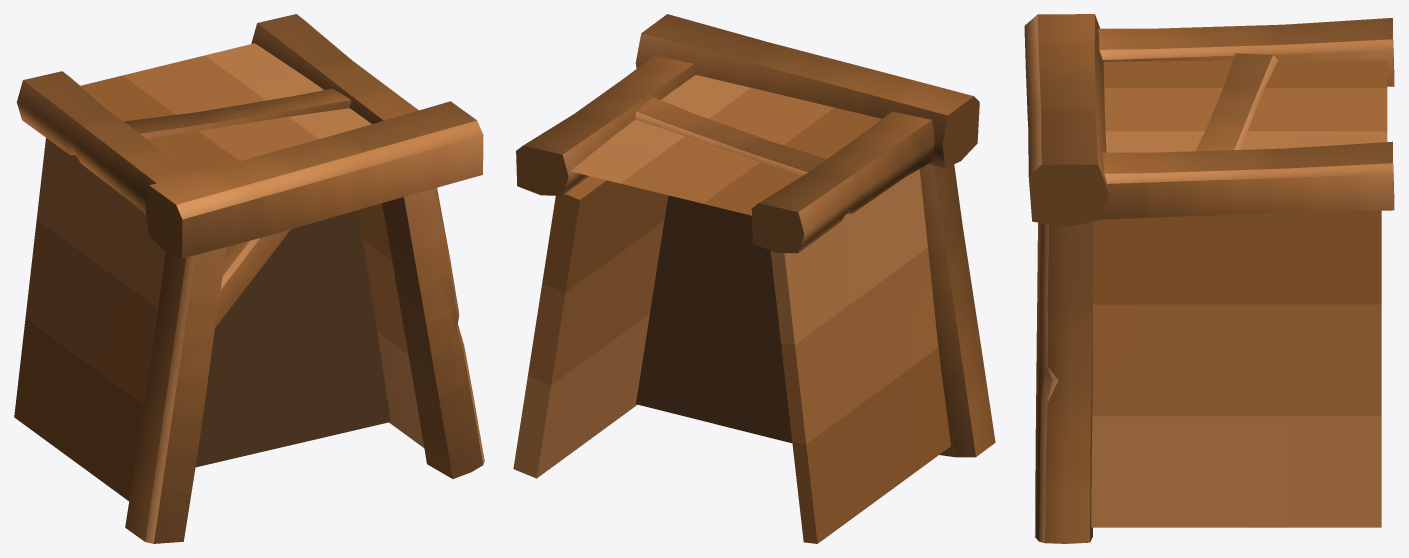
Rendered from desert-mine.obj.
3 renders of one model, left to right at view 1: azimuth 30°, elevation 25°; view 2: azimuth 150°, elevation 25°; view 3: azimuth 270°, elevation 25°, orthographic. The views are drawn at different scales.
Visible parts, largest first — view 1: desert-mine; view 2: desert-mine; view 3: desert-mine.
Part boxes in pixels (x1,y1,x2,y2): desert-mine: (14,14,484,543); desert-mine: (513,14,995,543); desert-mine: (1024,14,1394,543).
Size of the model in its own units: 6.38 by 6.3 by 5.54.
1 material, 1 textured.
